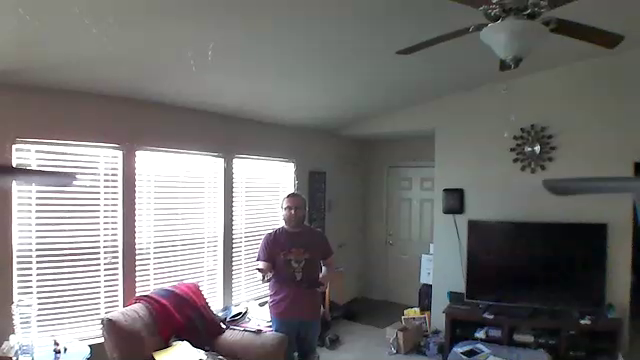land: (250, 265, 284, 287)
